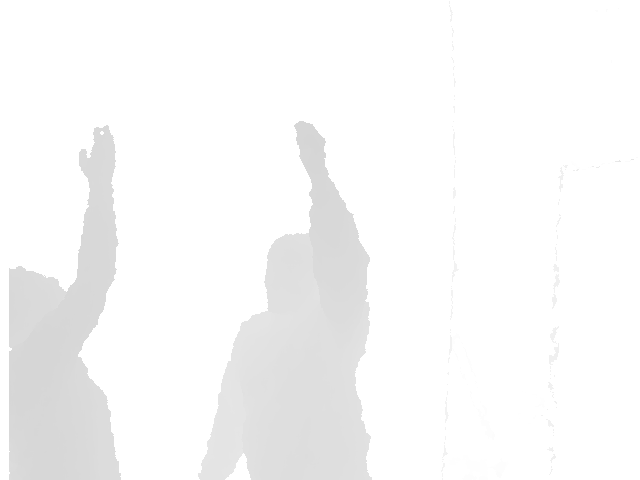hand: (78, 125, 116, 188), (293, 122, 327, 171)
head: (5, 264, 75, 362), (263, 231, 331, 318)
person: (194, 120, 372, 480), (8, 125, 123, 480)
